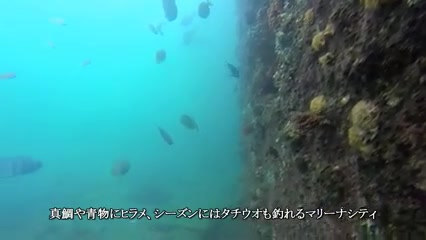smallfish: (195, 1, 214, 22)
